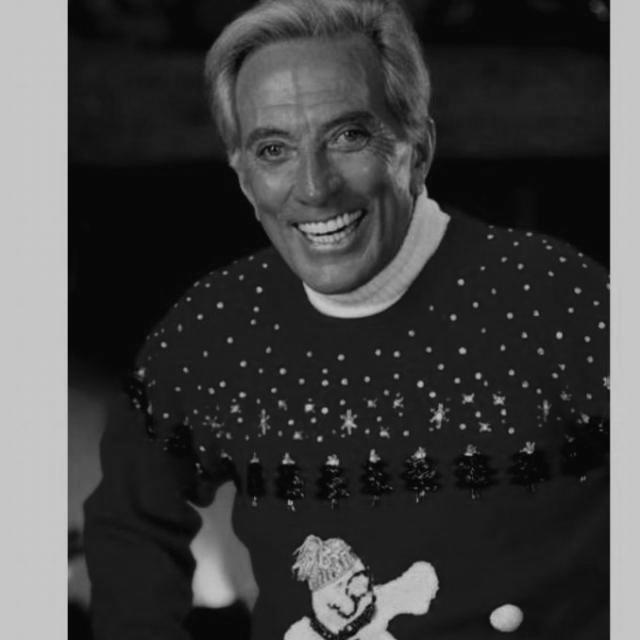real: (218, 36, 450, 296)
